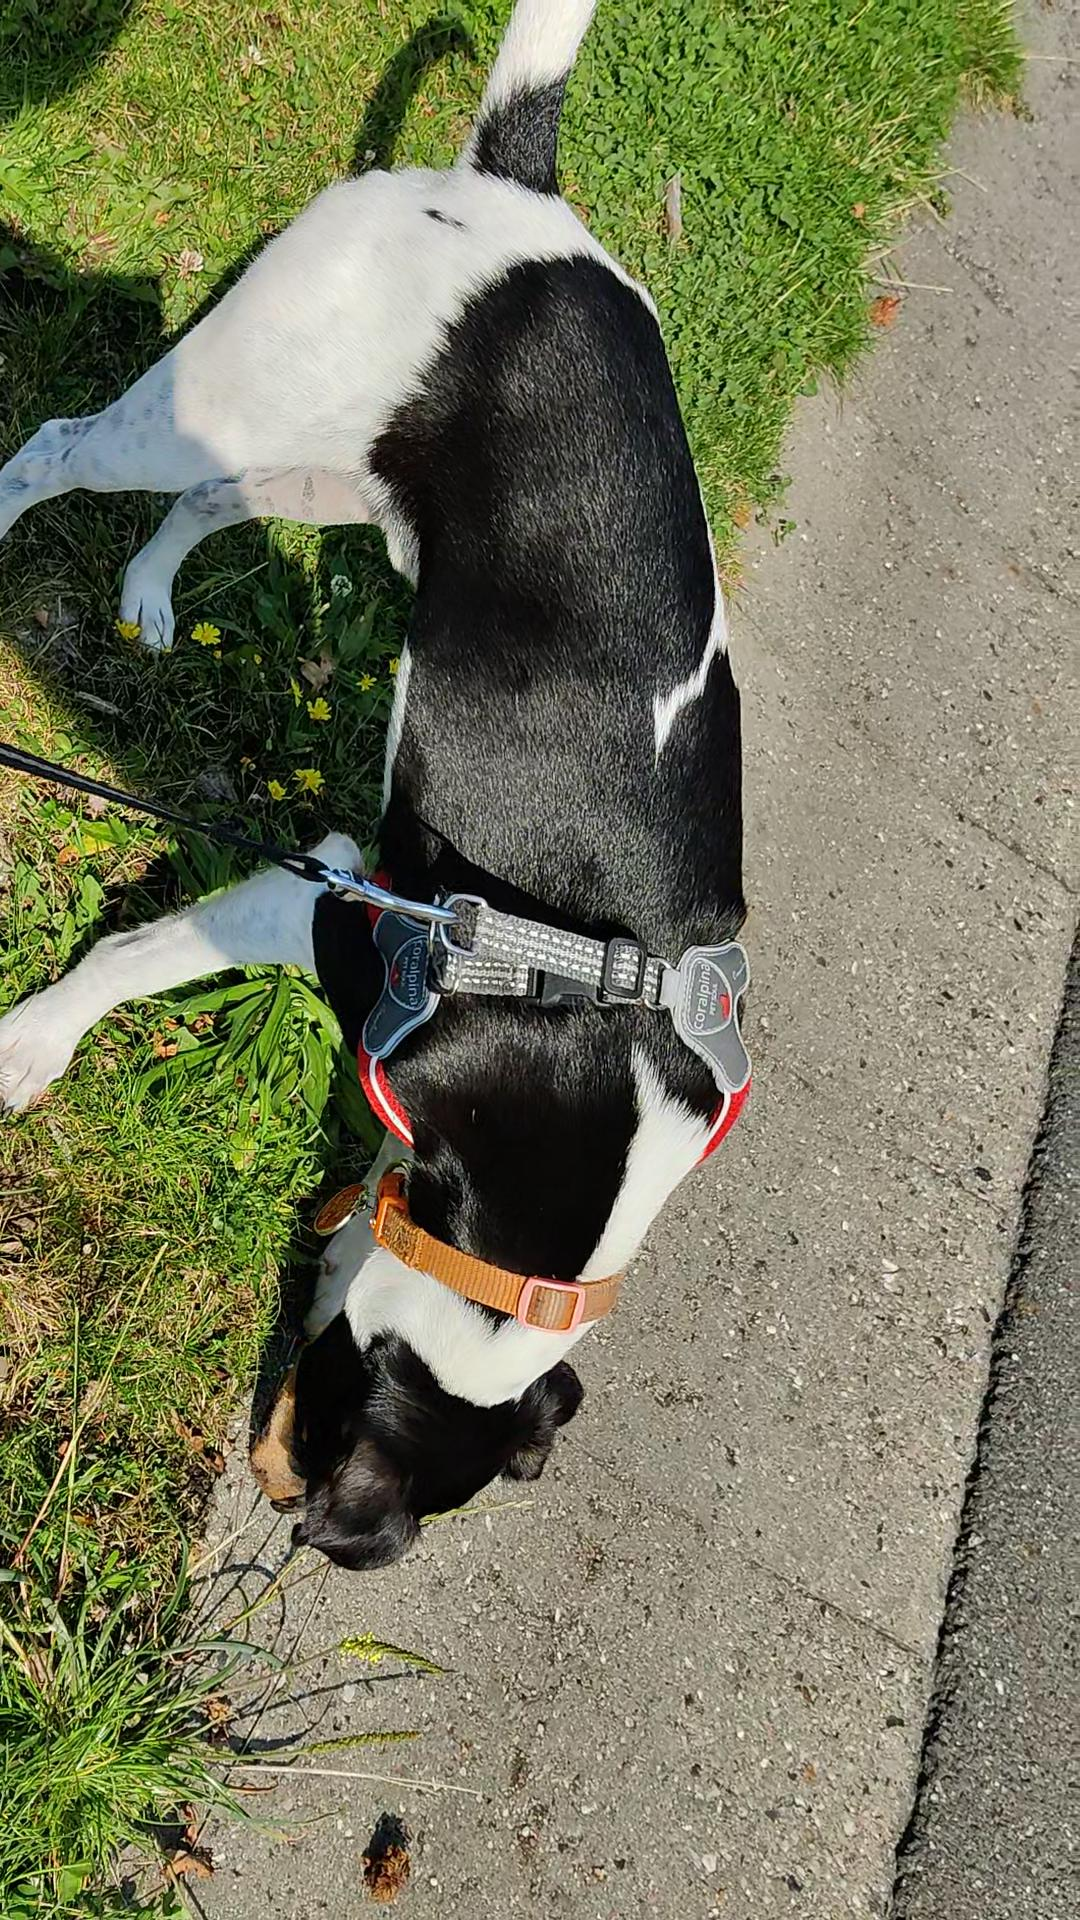Dog: (0, 0, 823, 1604)
